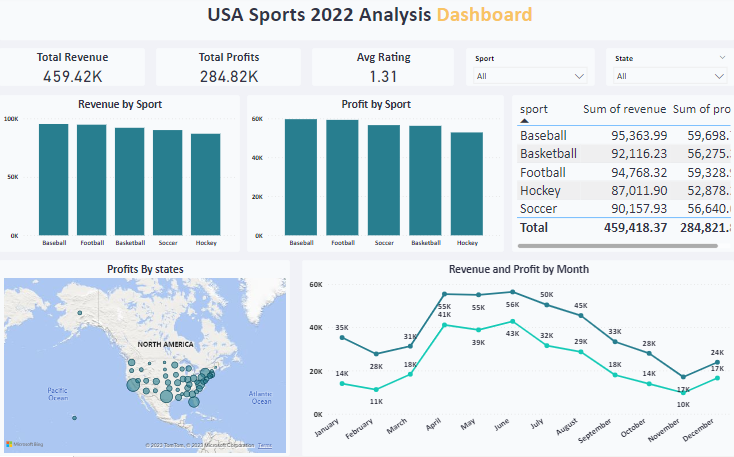

This screenshot's page, from the dashboard's own definition file:
{"tool":"powerbi","page":{"name":"Page 1","canvas":[1280,800],"ordinal":0},"visuals":[{"type":"clusteredColumnChart","title":"Revenue by Sport","fields":{"Category":["orders.sport"],"Y":["Sum(orders.revenue)"]},"box":[0,171.6,419.1,273],"z":0},{"type":"clusteredColumnChart","title":" Profit by Sport","fields":{"Category":["orders.sport"],"Y":["Sum(orders.profit)"]},"box":[431.3,172.2,447,273],"z":1000},{"type":"map","title":"Profits By states","fields":{"Category":["customers.State"],"Size":["Sum(orders.profit)"]},"box":[0,459.1,506.1,340.9],"z":2000},{"type":"lineChart","title":"Revenue and Profit by Month","fields":{"Category":["orders.date.Variation.Date Hierarchy.Month"],"Y":["Sum(orders.revenue)","Sum(orders.profit)"]},"box":[527.4,458.4,752.2,341.6],"z":3000},{"type":"tableEx","fields":{"Values":["orders.sport","Sum(orders.revenue)","Sum(orders.profit)"]},"box":[892.2,172.2,387.8,273],"z":4000},{"type":"card","title":"Total Revenue","fields":{"Values":["Sum(orders.revenue)"]},"box":[0,90.4,253.9,66.1],"z":5000},{"type":"card","title":"Total Profits","fields":{"Values":["Sum(orders.profit)"]},"box":[273.5,90.4,252.2,66.1],"z":6000},{"type":"card","title":"Avg Rating","fields":{"Values":["Avg(orders.rating)"]},"box":[545.2,90.4,247,66.1],"z":7000},{"type":"slicer","fields":{"Values":["orders.sport"]},"box":[811.7,90.4,224.3,66.1],"z":9000},{"type":"slicer","fields":{"Values":["customers.State"]},"box":[1055.7,90.4,224.3,66.1],"z":10000},{"type":"textbox","box":[0,0,1280,76.5],"z":11000}]}

Visuals, with their boxes in screenshot pixels (x1, y1, x2, y2), scaled from the page's 1280x800 canvas onto the 734x457 screenshot:
"Revenue by Sport" clusteredColumnChart: (x1=0, y1=98, x2=240, y2=254)
" Profit by Sport" clusteredColumnChart: (x1=247, y1=98, x2=504, y2=254)
"Profits By states" map: (x1=0, y1=262, x2=290, y2=456)
"Revenue and Profit by Month" lineChart: (x1=302, y1=262, x2=733, y2=456)
tableEx - orders.sport x Sum(orders.revenue): (x1=512, y1=98, x2=733, y2=254)
"Total Revenue" card: (x1=0, y1=52, x2=146, y2=89)
"Total Profits" card: (x1=157, y1=52, x2=301, y2=89)
"Avg Rating" card: (x1=313, y1=52, x2=454, y2=89)
slicer - orders.sport: (x1=465, y1=52, x2=594, y2=89)
slicer - customers.State: (x1=605, y1=52, x2=733, y2=89)
textbox: (x1=0, y1=0, x2=733, y2=44)
